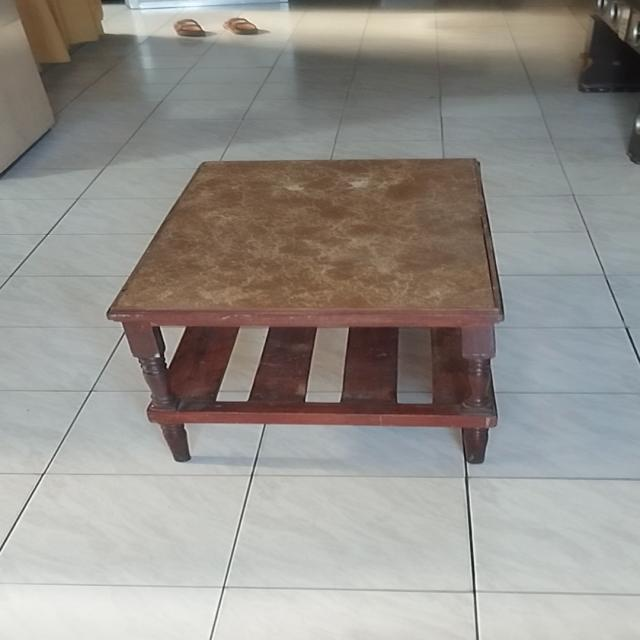table: (103, 155, 506, 467)
